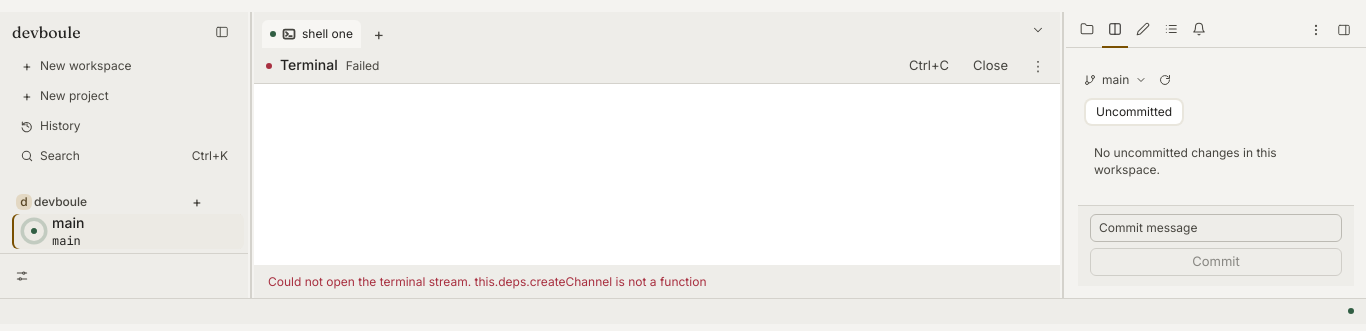
Test: the + new-tab menu › Browser opens a page tab in the selected workspace, with no session created
Click the button with class "workspace-session-add" at [379, 34], box [365,20,393,48]
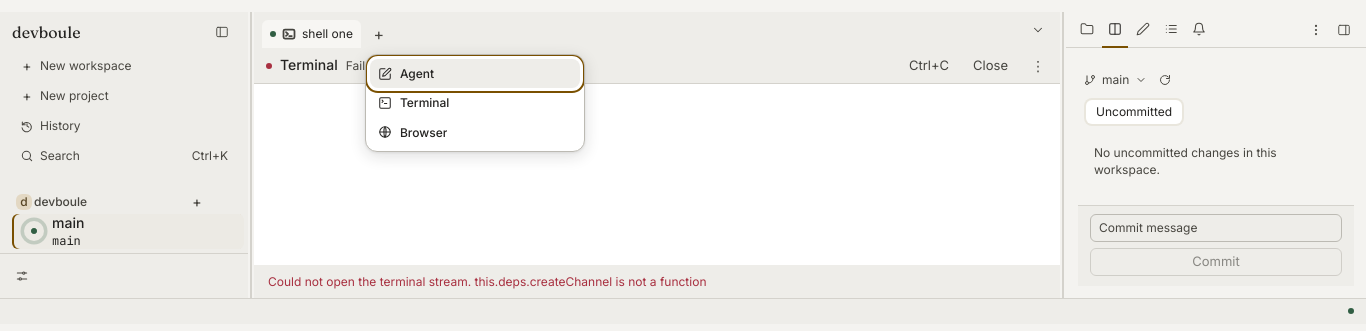
Click the menu item "Browser" at [475, 132], box [370,118,580,147]
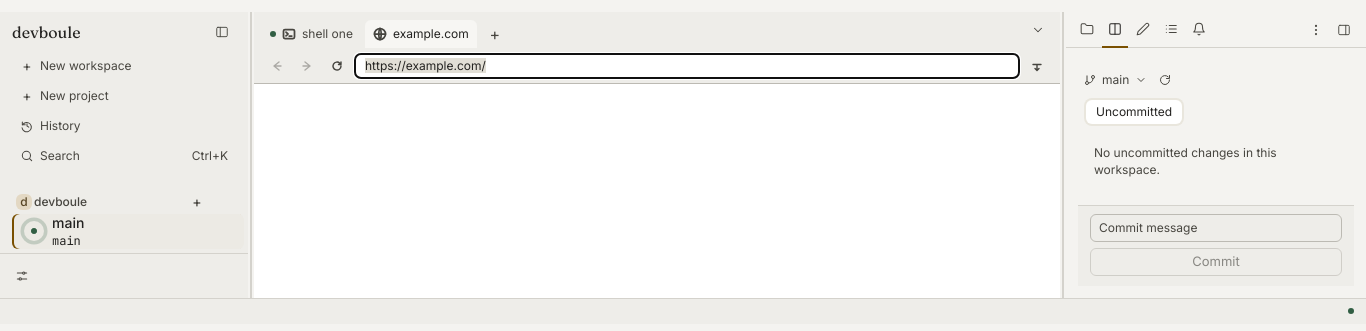
Now the button "⋮" is gone
Now the form with class "browser-chrome" is shown, box [254,48,1060,84]
